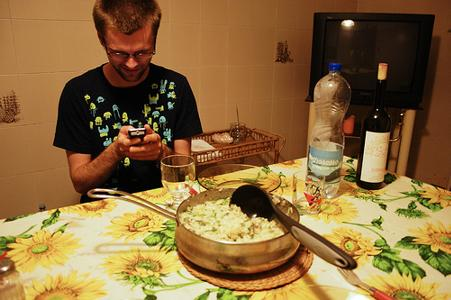person: (54, 2, 204, 205)
